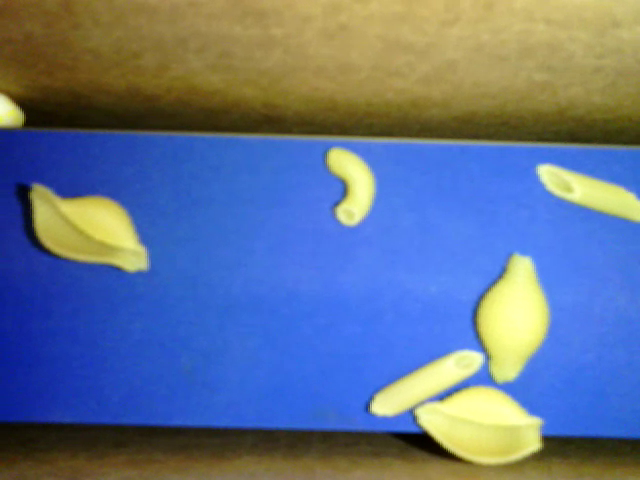elbow: (325, 146, 376, 227)
penne: (367, 349, 485, 416), (536, 163, 639, 222)
shell: (411, 385, 543, 468), (29, 183, 149, 272), (475, 251, 552, 384)
